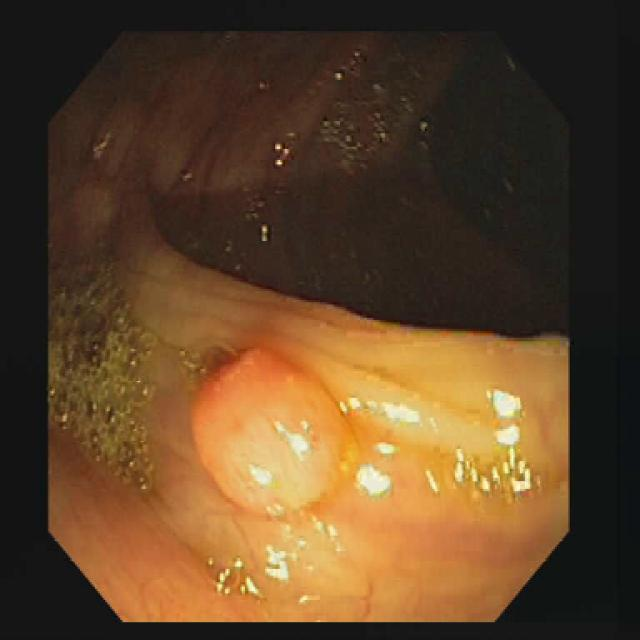tumor: (192, 349, 347, 520)
